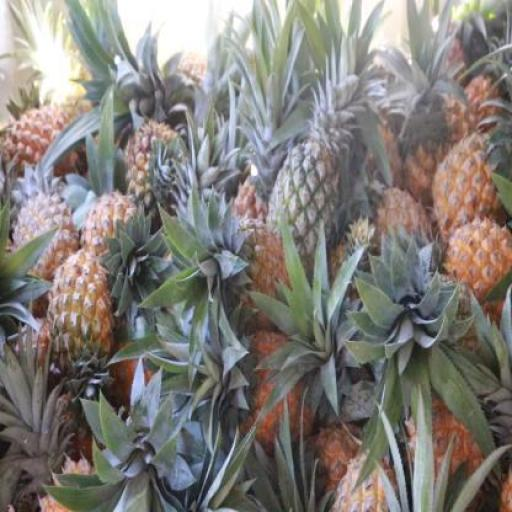Pineapple - v8 v1: (51, 257, 113, 382), (432, 130, 502, 232), (445, 223, 512, 303)
